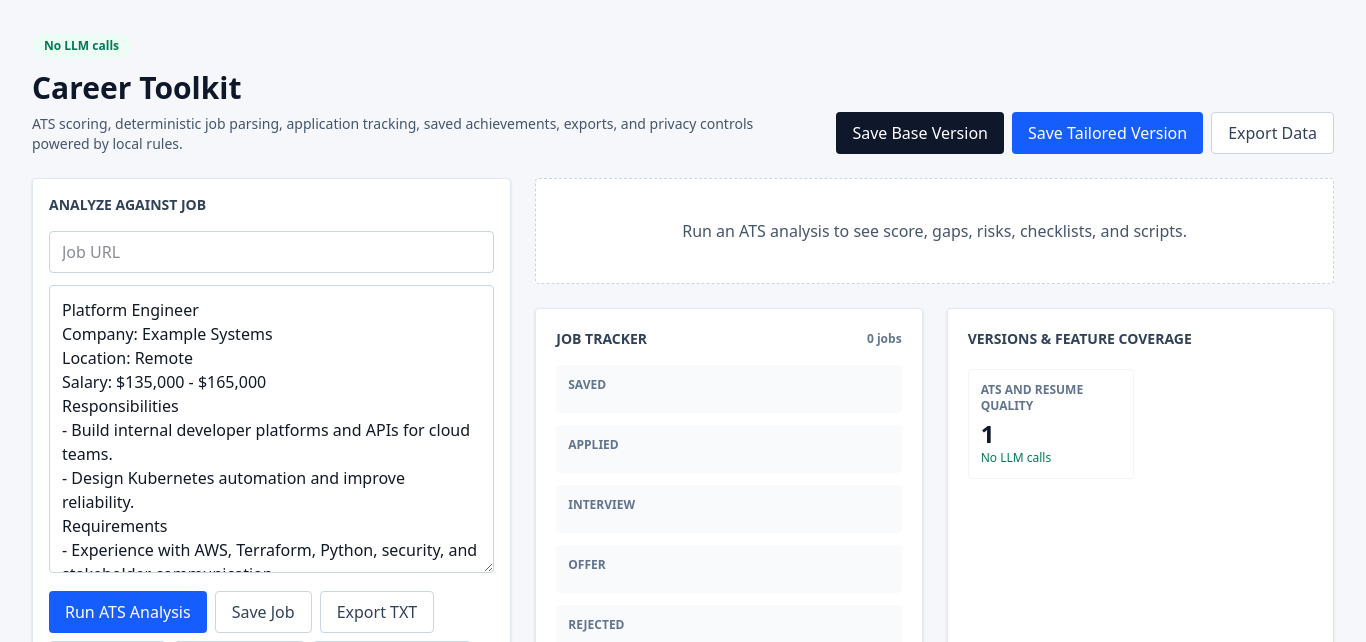
Test: CareerToolkitPage › runs deterministic ATS analysis and shows the report
Expected: the heading "Career Toolkit" is shown, [32, 67, 242, 108]
Click the button "Run ATS Analysis" at (128, 612), box [49, 591, 207, 633]
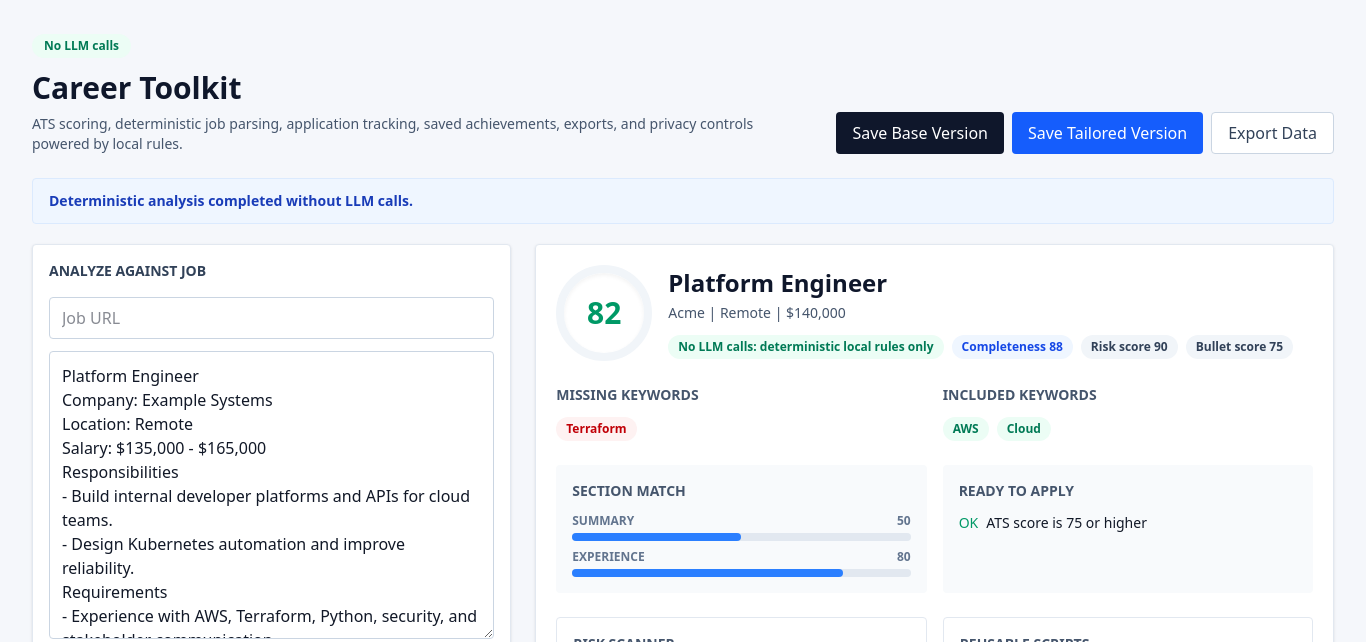
Expected: the text "82" is shown, [587, 295, 621, 331]
Expected: the text "Terraform" is shown, [556, 417, 637, 441]
Expected: the text "No LLM calls: deterministic local rules only" is shown, [668, 335, 944, 359]
